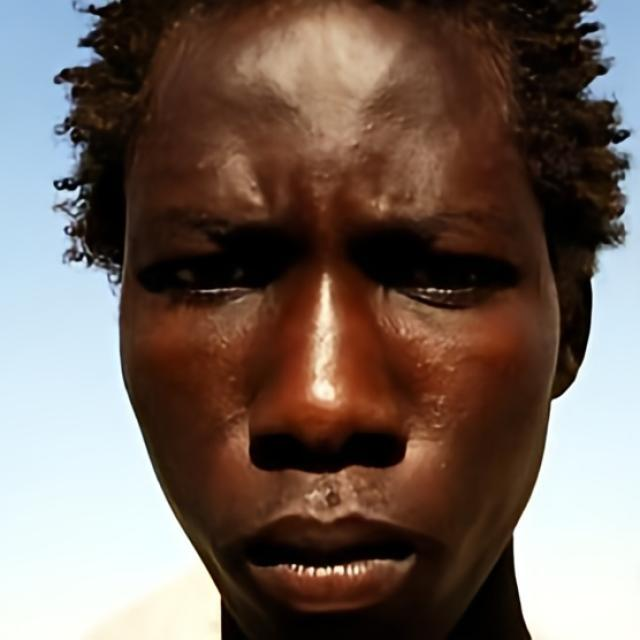anger: (104, 0, 562, 603)
